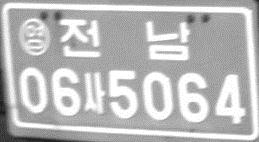0: (142, 71, 173, 121), (18, 66, 48, 113)
4: (214, 73, 246, 124)
5: (107, 69, 138, 119)
6: (176, 71, 210, 123), (49, 66, 81, 117)
사: (82, 71, 106, 115)
영: (17, 17, 50, 56)
전남_D: (58, 18, 191, 61)
